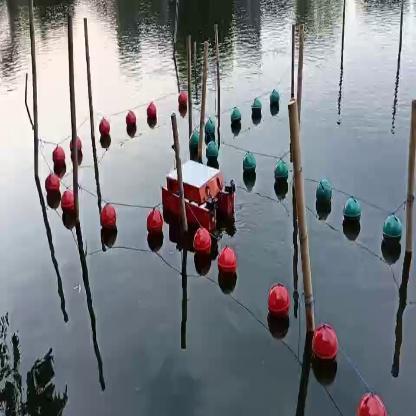green_buoy: (341, 195, 364, 239), (382, 210, 400, 254), (239, 152, 258, 185), (315, 176, 328, 214), (270, 162, 286, 192), (252, 96, 262, 124), (232, 106, 242, 130), (207, 145, 219, 164), (206, 118, 216, 140), (268, 91, 278, 111), (191, 134, 200, 156)
red_buoy: (312, 324, 340, 379), (268, 283, 288, 330), (354, 386, 387, 414), (99, 202, 119, 238), (217, 244, 235, 284), (192, 229, 210, 260), (150, 210, 162, 244), (62, 187, 74, 218), (44, 174, 58, 198), (176, 90, 190, 113), (54, 148, 65, 168), (100, 118, 110, 138), (147, 101, 155, 124), (129, 113, 135, 130)
